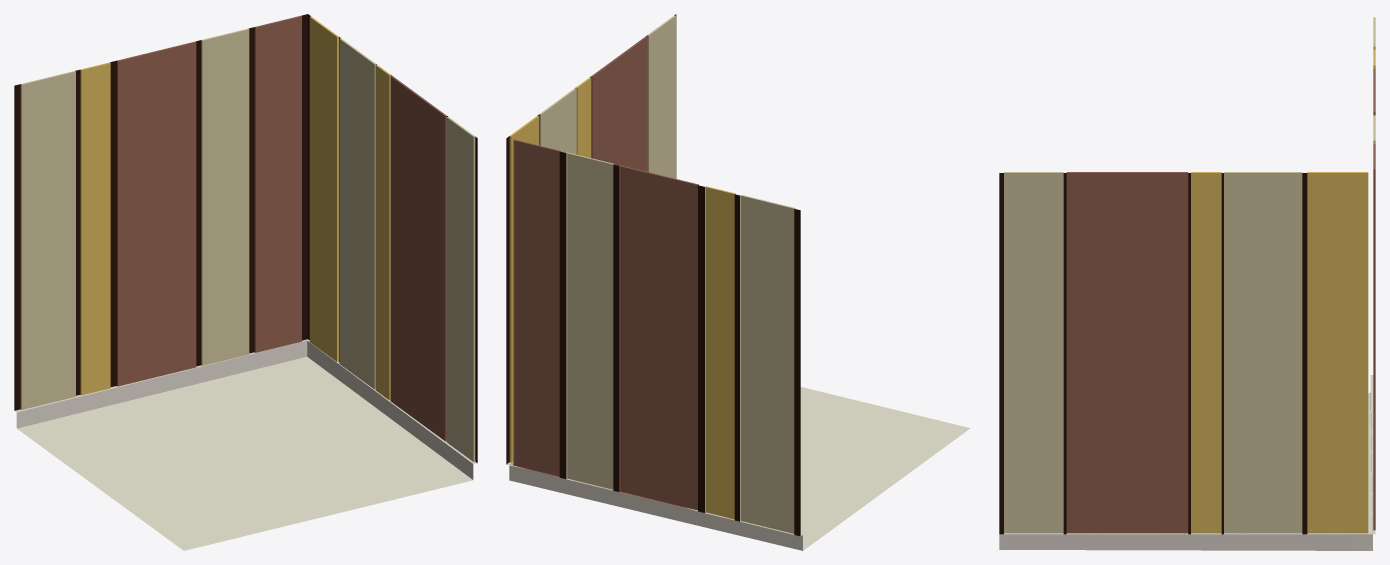
Rendered from Room Corner Roofless (Untextured).fbx.
3 renders of one model, left to right at view 1: azimuth 30°, elevation 25°; view 2: azimuth 150°, elevation 25°; view 3: azimuth 270°, elevation 25°, orthographic. The views are drawn at different scales.
Parts seen in each view (by area): view 1: roomCorner9; view 2: roomCorner9; view 3: roomCorner9.
Boxes of the visible parts, x1,y1,x2,y2 form: roomCorner9: [14, 14, 477, 550]; roomCorner9: [506, 14, 970, 550]; roomCorner9: [999, 17, 1375, 550].
Bounding box in the file's own units: 337 × 375 × 338.
